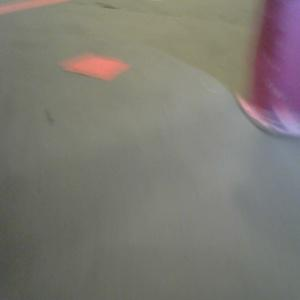right: (236, 1, 300, 136)
